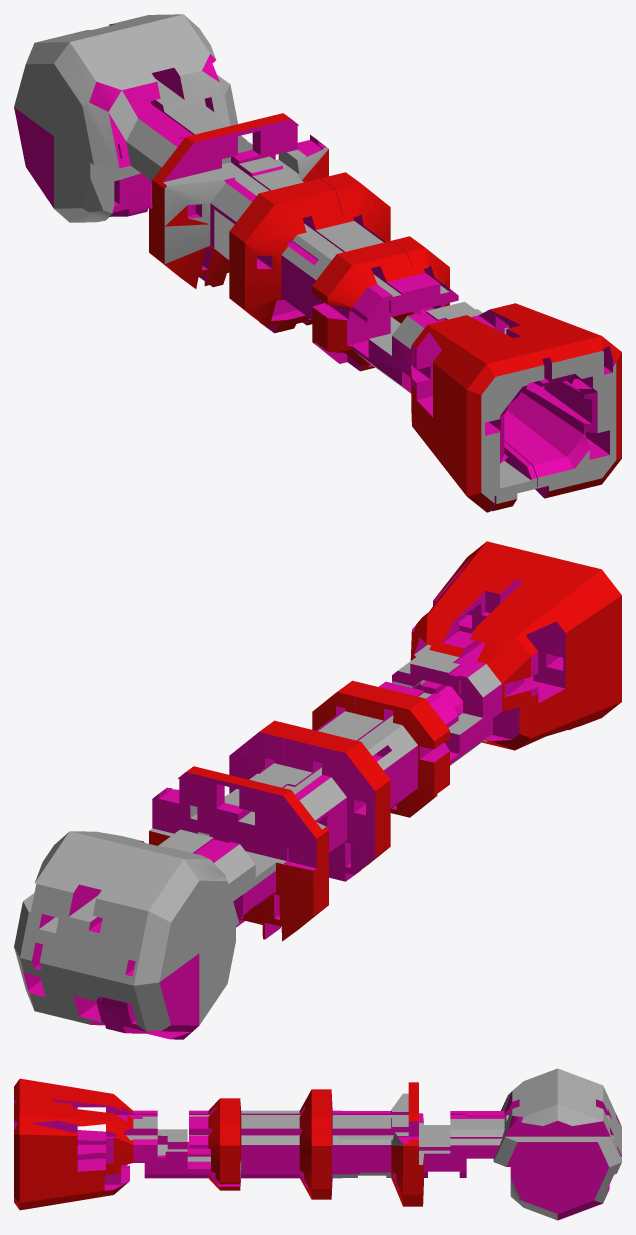
The model's file is Enemy_TurretBarrel_Var3_Glitch.fbx.
3 views of the same model, one above another, from view 1: azimuth 30°, elevation 25°; view 2: azimuth 150°, elevation 25°; view 3: azimuth 270°, elevation 25° (orthographic). The views are drawn at different scales.
Parts seen in each view (by area): view 1: Enemy_Turret_Barrel_Var12; view 2: Enemy_Turret_Barrel_Var12; view 3: Enemy_Turret_Barrel_Var12.
Boxes of the visible parts, x1,y1,x2,y2 form: Enemy_Turret_Barrel_Var12: (14, 14, 621, 512); Enemy_Turret_Barrel_Var12: (14, 541, 621, 1039); Enemy_Turret_Barrel_Var12: (14, 1068, 621, 1220).
Size of the model in its own units: 0.9515 by 0.9995 by 4.73.
